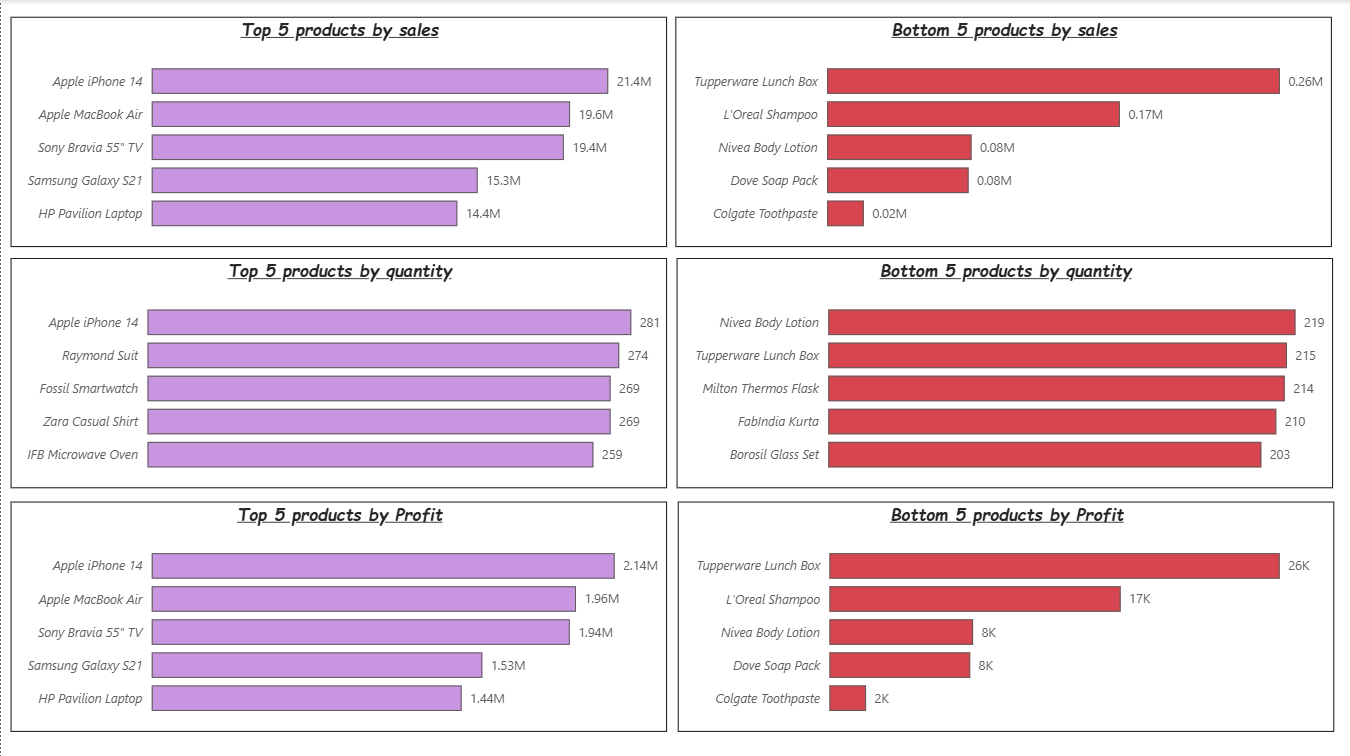

Layout of this report page (visuals, bound fields, positions):
{"tool":"powerbi","page":{"name":"Top/Bottom 5 Analysis","canvas":[1280,720],"ordinal":1},"visuals":[{"type":"barChart","title":"Top 5 products by sales","fields":{"Category":["Dim Product.Product Name"],"Y":["Sum(Facts table.Net Sales)"]},"box":[9,15.4,622.4,218.1],"z":0},{"type":"barChart","title":"Bottom 5 products by sales","fields":{"Category":["Dim Product.Product Name"],"Y":["Sum(Facts table.Net Sales)"]},"box":[639,15.4,622.4,218.1],"z":1000},{"type":"barChart","title":"Top 5 products by quantity","fields":{"Category":["Dim Product.Product Name"],"Y":["Sum(Facts table.Units Sold)"]},"box":[9,245.1,622.4,218.1],"z":2000},{"type":"barChart","title":"Top 5 products by Profit","fields":{"Category":["Dim Product.Product Name"],"Y":["Sum(Facts table.Profit)"]},"box":[9,476.1,622.4,218.1],"z":3000},{"type":"barChart","title":"Bottom 5 products by quantity","fields":{"Category":["Dim Product.Product Name"],"Y":["Sum(Facts table.Units Sold)"]},"box":[640.3,245.1,622.4,218.1],"z":4000},{"type":"barChart","title":"Bottom 5 products by Profit","fields":{"Category":["Dim Product.Product Name"],"Y":["Sum(Facts table.Profit)"]},"box":[641.6,476.1,622.4,218.1],"z":5000}]}

Visuals, with their boxes in screenshot pixels (x1, y1, x2, y2), scaled from the page's 1280x720 canvas onto the 1350x756 screenshot:
"Top 5 products by sales" barChart: 9:16:666:245
"Bottom 5 products by sales" barChart: 674:16:1330:245
"Top 5 products by quantity" barChart: 9:257:666:486
"Top 5 products by Profit" barChart: 9:500:666:729
"Bottom 5 products by quantity" barChart: 675:257:1332:486
"Bottom 5 products by Profit" barChart: 677:500:1333:729
